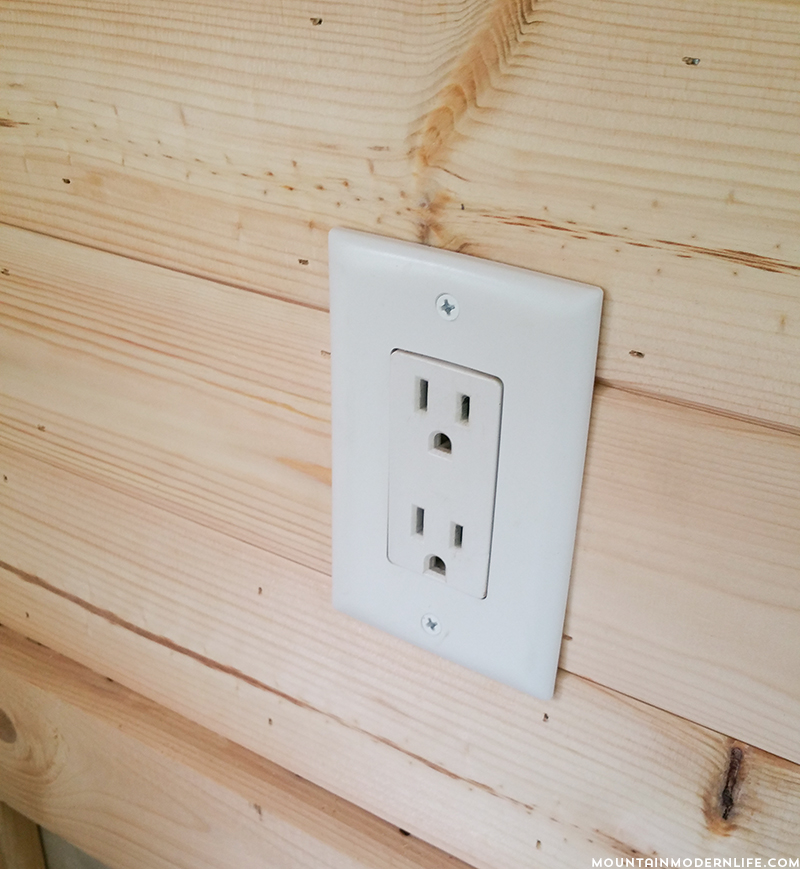outlet: (404, 367, 487, 460), (403, 496, 478, 585)
